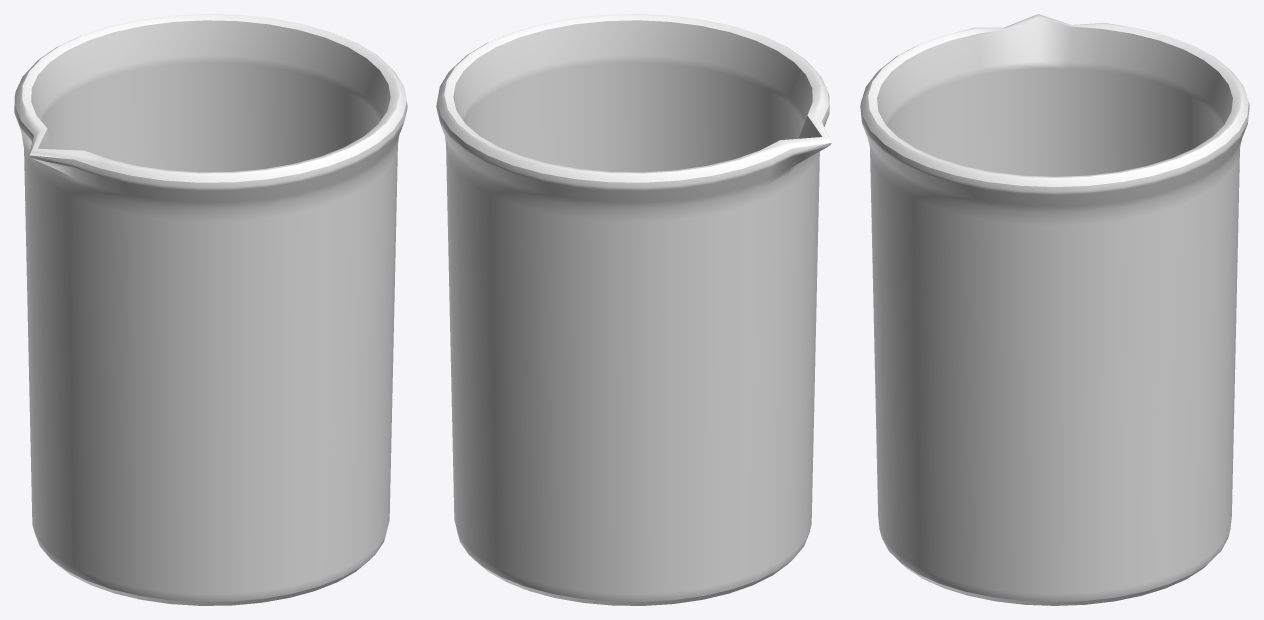
The model's file is Beaker.fbx.
3 renders of one model, left to right at view 1: azimuth 30°, elevation 25°; view 2: azimuth 150°, elevation 25°; view 3: azimuth 270°, elevation 25°, orthographic.
Parts seen in each view (by area): view 1: Beaker1; view 2: Beaker1; view 3: Beaker1.
Boxes of the visible parts, x1,y1,x2,y2 form: Beaker1: (14,14,407,605); Beaker1: (436,14,831,605); Beaker1: (860,14,1249,605).
Size of the model in its own units: 10.96 by 12.87 by 10.37.
